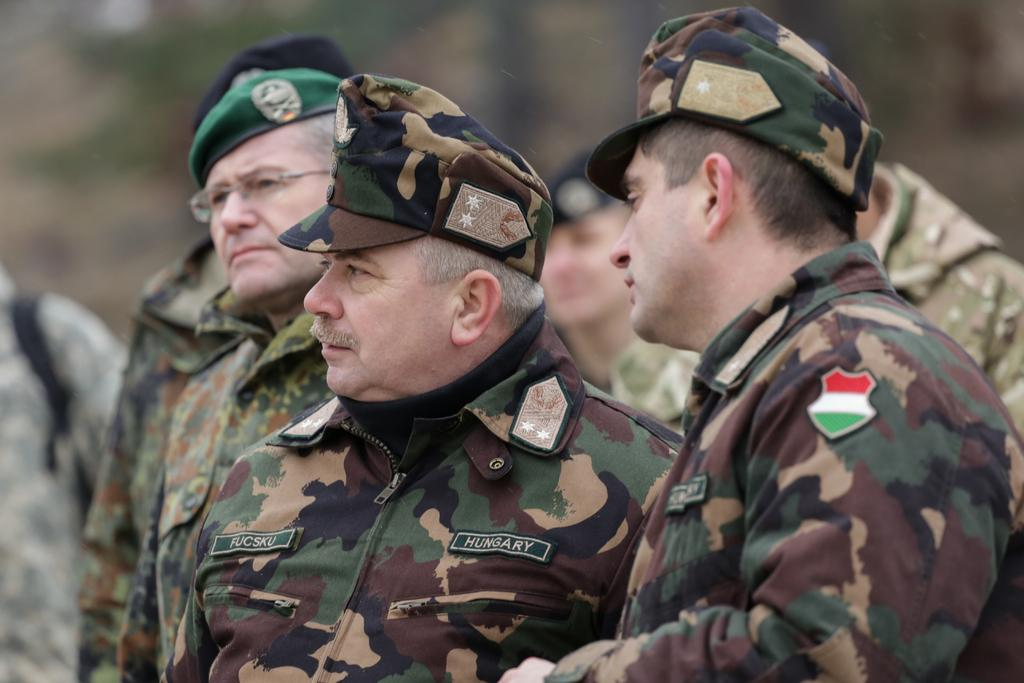Hat: (590, 1, 886, 212), (279, 71, 556, 281)
